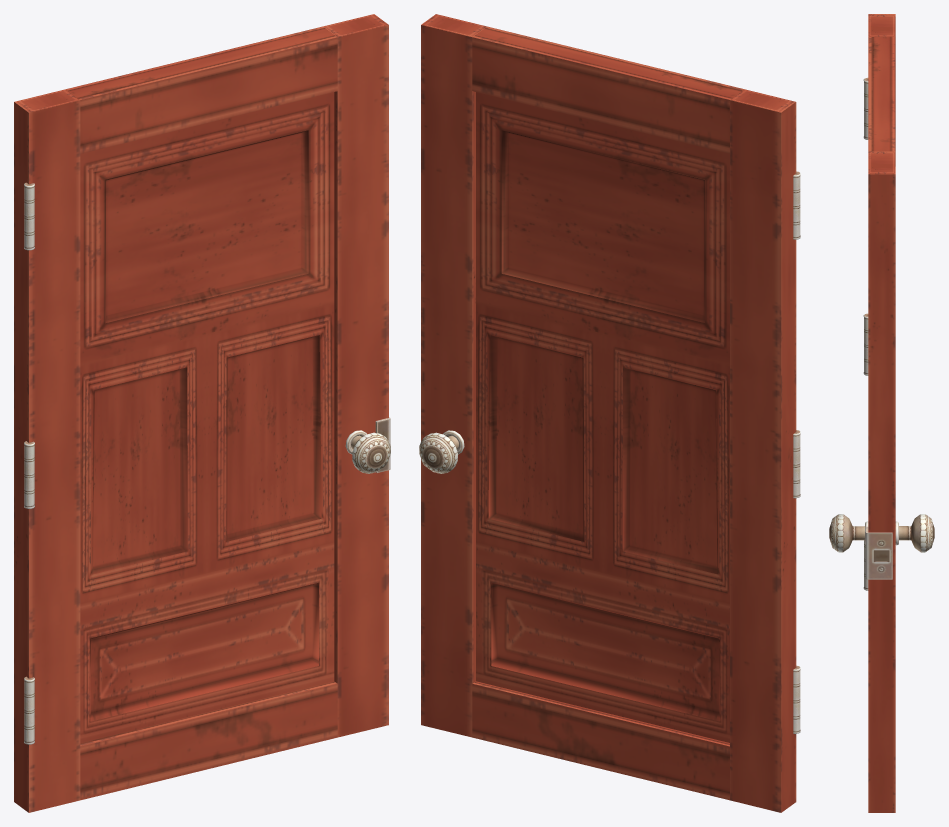
Rendered from MSH_Door_02.FBX.
The picture shows the model from 3 angles, left to right: view 1: azimuth 30°, elevation 25°; view 2: azimuth 150°, elevation 25°; view 3: azimuth 270°, elevation 25°; orthographic projection. The views are drawn at different scales.
Parts seen in each view (by area): view 1: MSH_Door_02; view 2: MSH_Door_02; view 3: MSH_Door_02.
Part boxes in pixels (<box>): MSH_Door_02: <box>14,14,390,812</box>; MSH_Door_02: <box>419,14,800,812</box>; MSH_Door_02: <box>829,14,934,812</box>.
Size of what is drawn, in the model's own units: 142 by 38.93 by 260.
